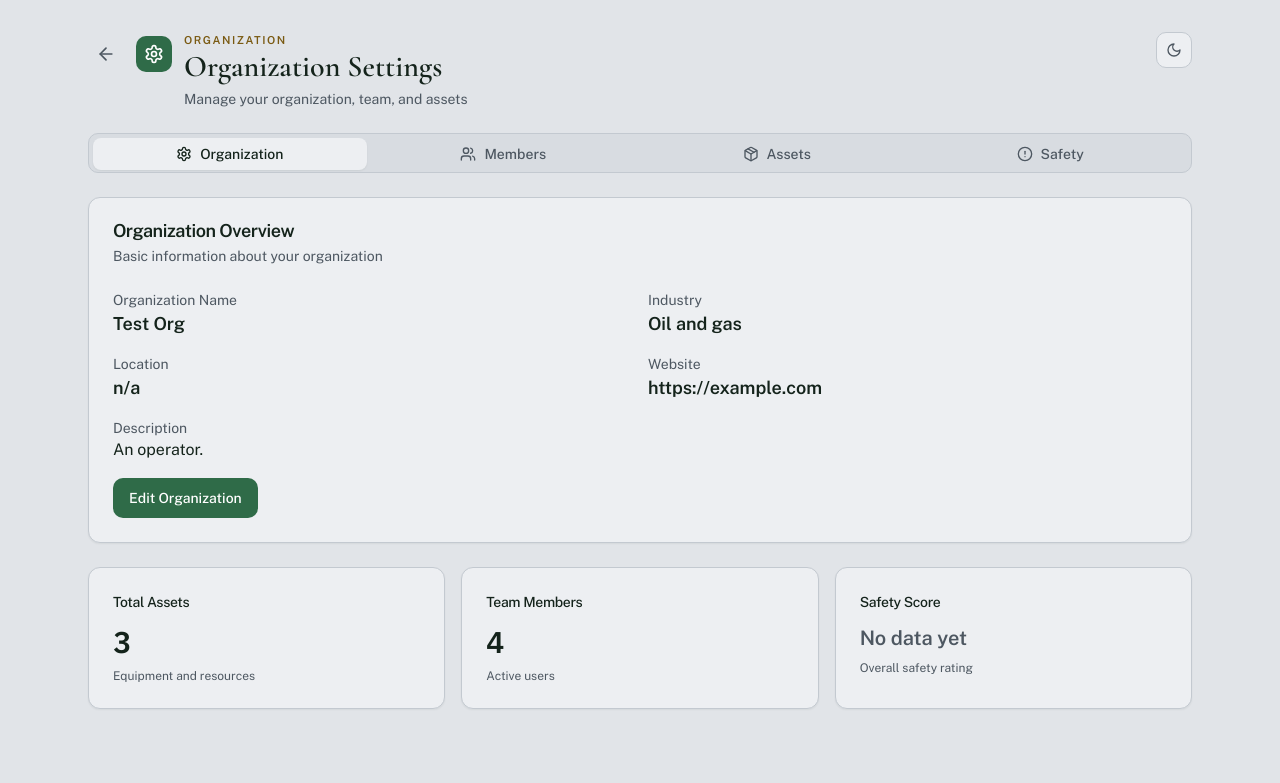
Test: /organization on the design system (batch 1C, AccountScope) › the edit form is on roles
Expected: the heading "Organization Overview" is shown, left=113, top=220, right=294, bottom=240
Press the mouse on the button "Edit Organization" at [185, 498], box left=113, top=478, right=258, bottom=518
Click the button "Edit Organization" at [185, 498], box left=113, top=478, right=258, bottom=518
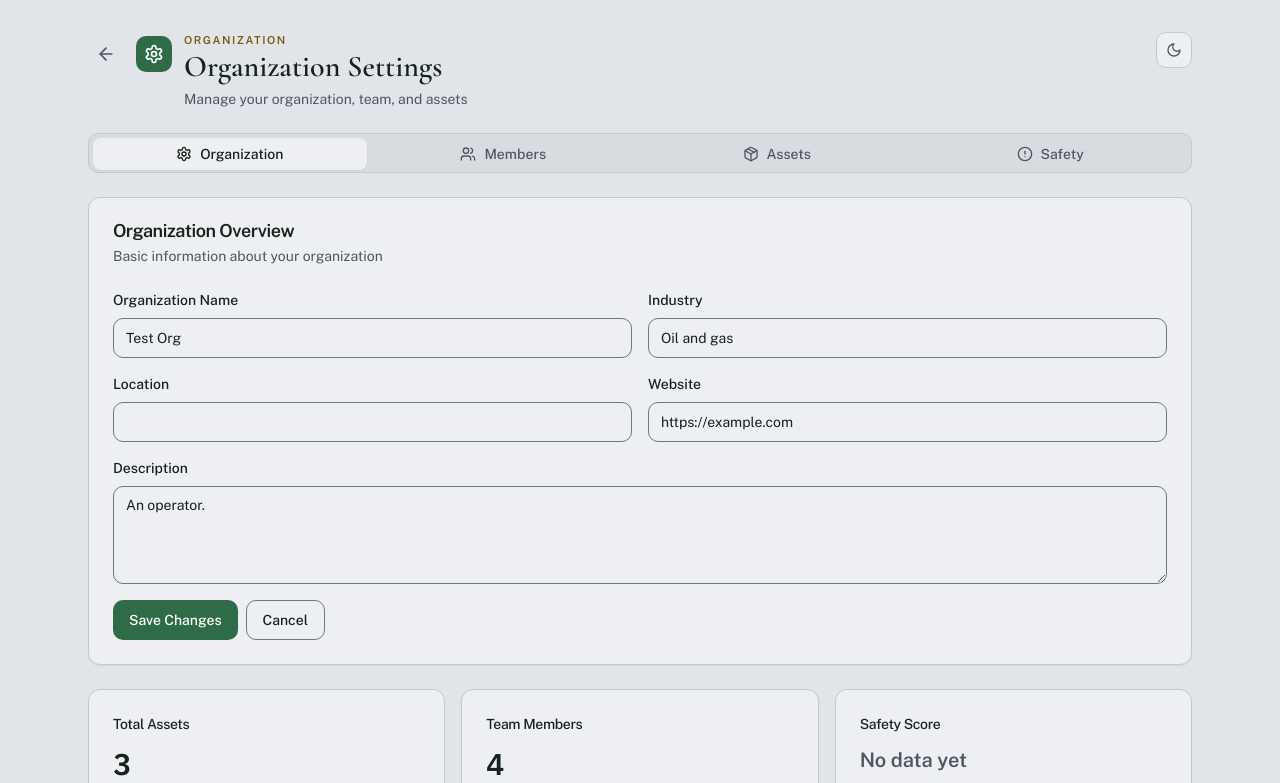
Now the button "Save Changes" is shown, box left=113, top=600, right=238, bottom=640
